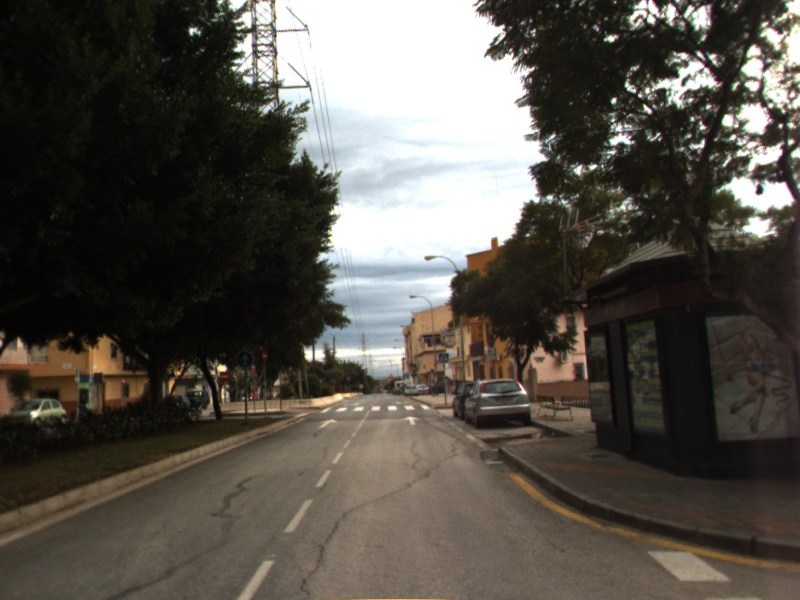STRAIGHT: (316, 416, 340, 430), (400, 414, 424, 427)
